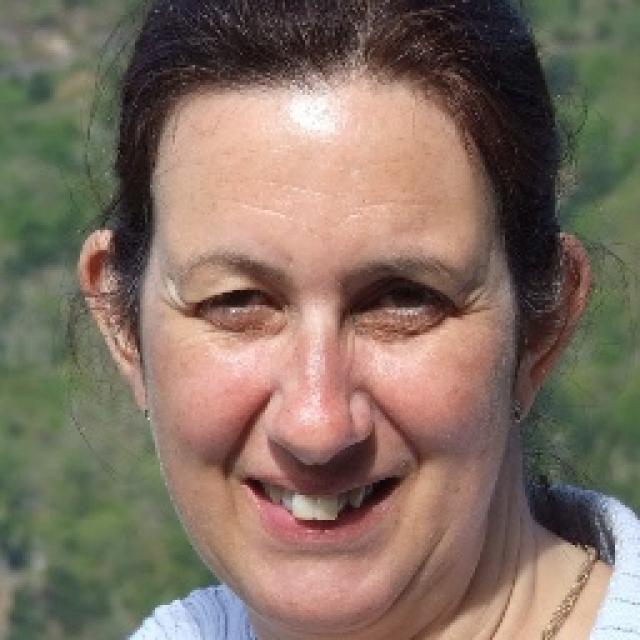earlobe: (125, 366, 153, 418), (512, 375, 538, 426)
eye: (359, 281, 453, 317), (199, 286, 285, 319)
nose: (268, 438, 374, 478)
wholeear: (513, 231, 594, 431), (83, 228, 151, 417)
